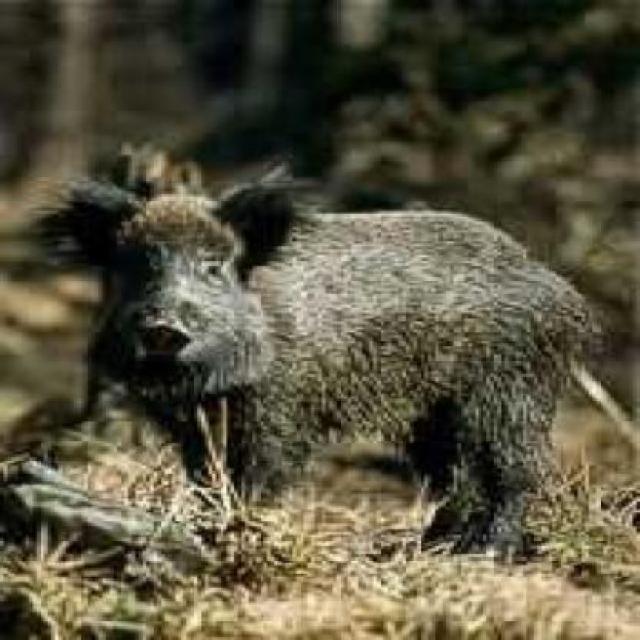pig: (74, 118, 638, 534)
